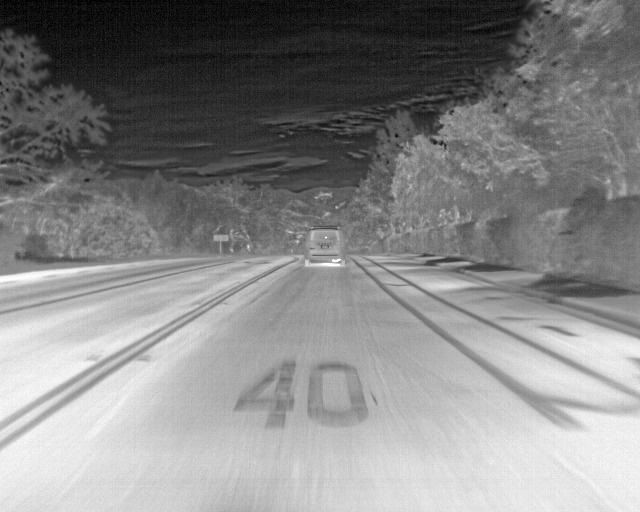car: (305, 224, 345, 268)
